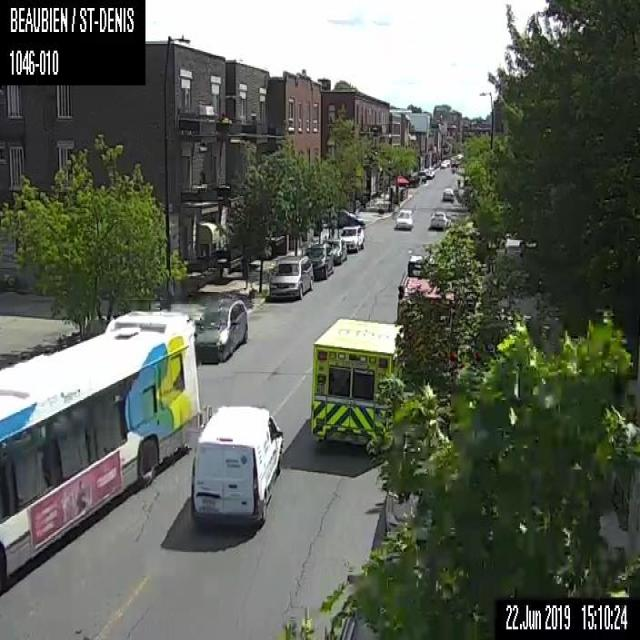bus: (0, 309, 200, 595)
vehicle: (308, 317, 402, 454), (192, 404, 282, 531), (397, 273, 465, 384), (193, 294, 246, 363), (384, 481, 438, 545), (268, 255, 312, 298), (306, 243, 334, 279), (322, 237, 346, 264), (341, 225, 364, 251), (394, 208, 414, 230), (429, 210, 449, 230), (442, 186, 454, 201), (439, 161, 446, 168)
